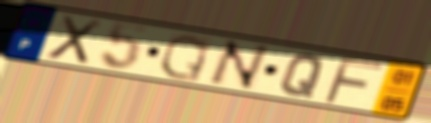5: (99, 22, 151, 73)
F: (321, 55, 387, 106)
N: (203, 38, 273, 92)
Q: (156, 32, 213, 84), (278, 53, 328, 100)
X: (42, 13, 106, 67)
